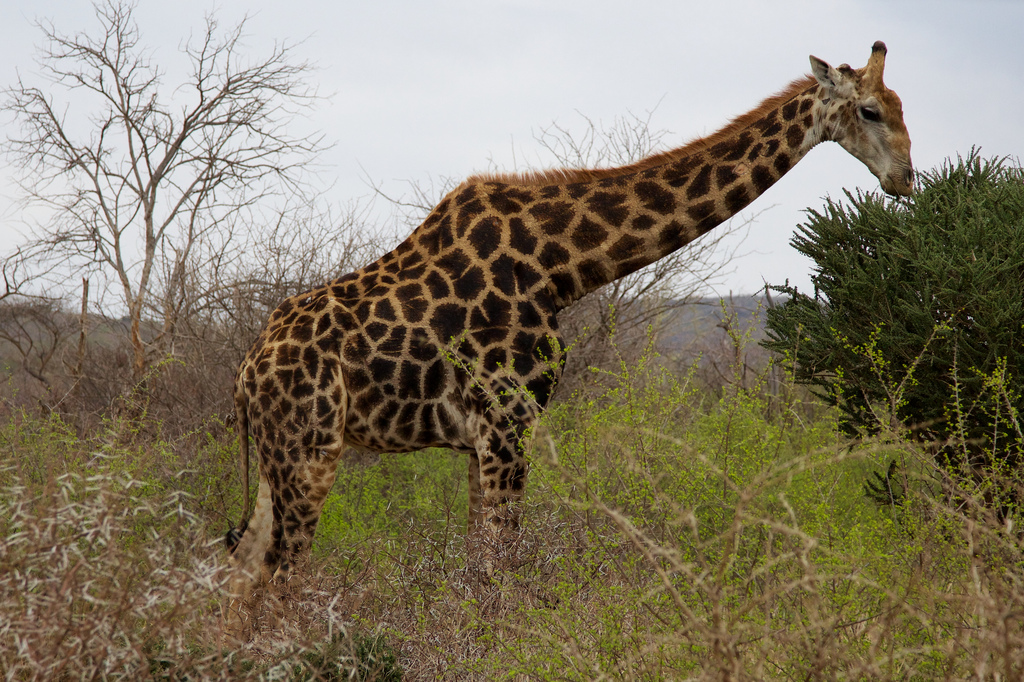giraffe: (225, 36, 978, 586)
